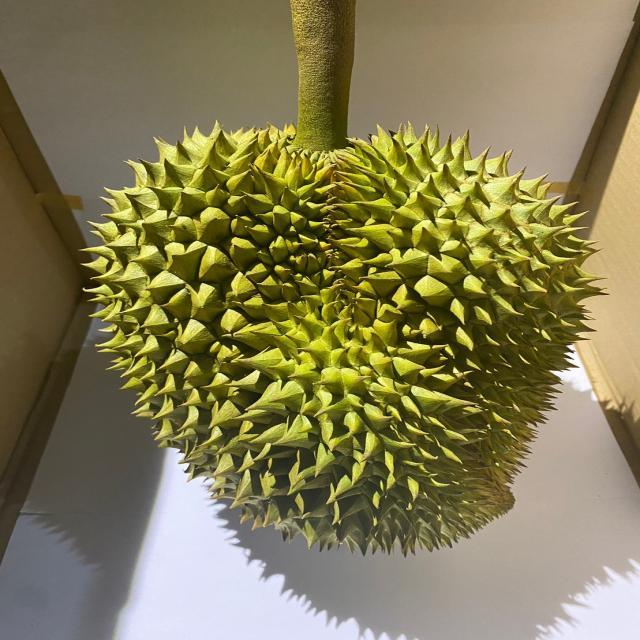immature: (78, 123, 611, 554)
